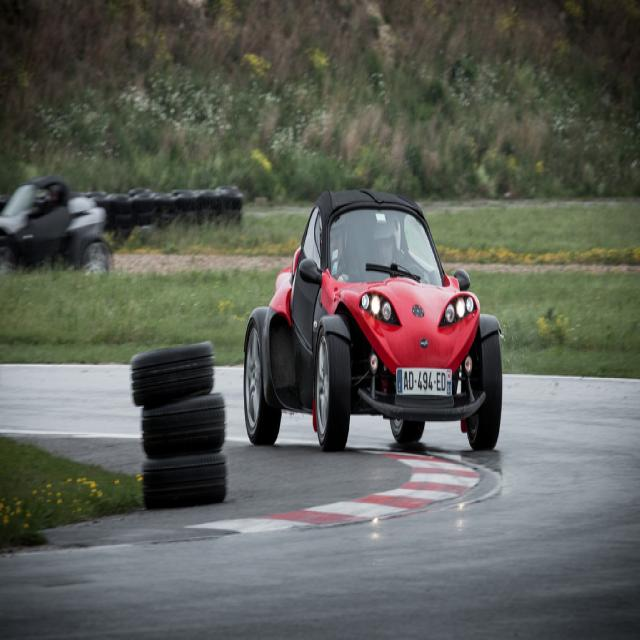car: (241, 177, 501, 454)
